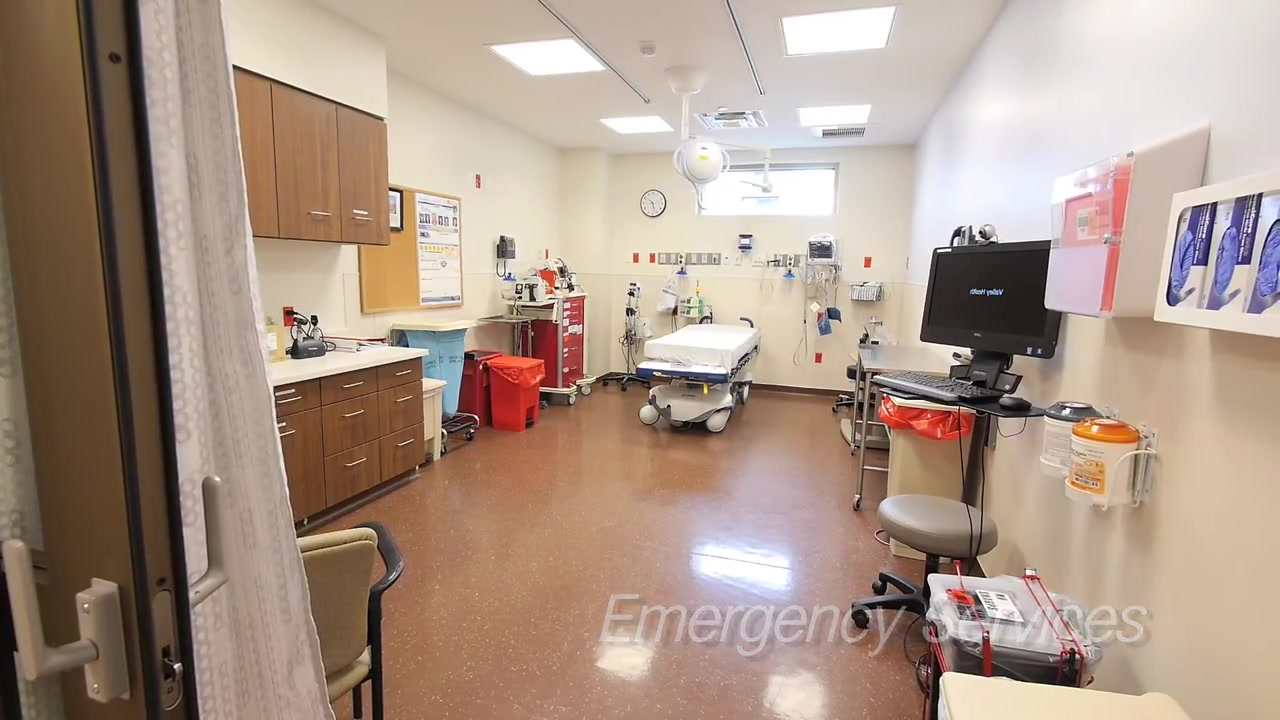bedside_monitor: (808, 237, 840, 265)
cabinet: (234, 67, 392, 246)
chair: (304, 522, 409, 720), (853, 493, 999, 632), (833, 365, 866, 413)
computer: (917, 240, 1068, 358)
counter: (266, 339, 425, 518)
countertop: (263, 344, 432, 387)
dispenser: (1154, 176, 1280, 329)
door_handle: (1, 535, 136, 714), (196, 476, 243, 609)
handle: (345, 457, 371, 470), (277, 394, 303, 406), (342, 379, 368, 390), (310, 209, 335, 219), (345, 408, 367, 419), (398, 437, 417, 447), (396, 394, 414, 404), (281, 428, 298, 438), (353, 215, 376, 222), (397, 370, 413, 378), (568, 365, 579, 371), (570, 312, 580, 316), (570, 320, 580, 324), (569, 346, 579, 350), (570, 303, 580, 307)
keyboard: (872, 369, 1003, 409)
medical_drawer: (514, 292, 592, 405)
medical_waste_container: (1045, 122, 1213, 318)
mouse: (1004, 396, 1035, 411)
operating_bed: (637, 318, 759, 432)
surgical_light: (677, 139, 725, 187)
telephone: (498, 236, 518, 261)
utility_cart: (393, 320, 479, 450), (480, 313, 540, 356)
waste_bin: (887, 396, 976, 564), (396, 322, 468, 414), (485, 356, 544, 432), (456, 348, 504, 428), (424, 377, 448, 463)
